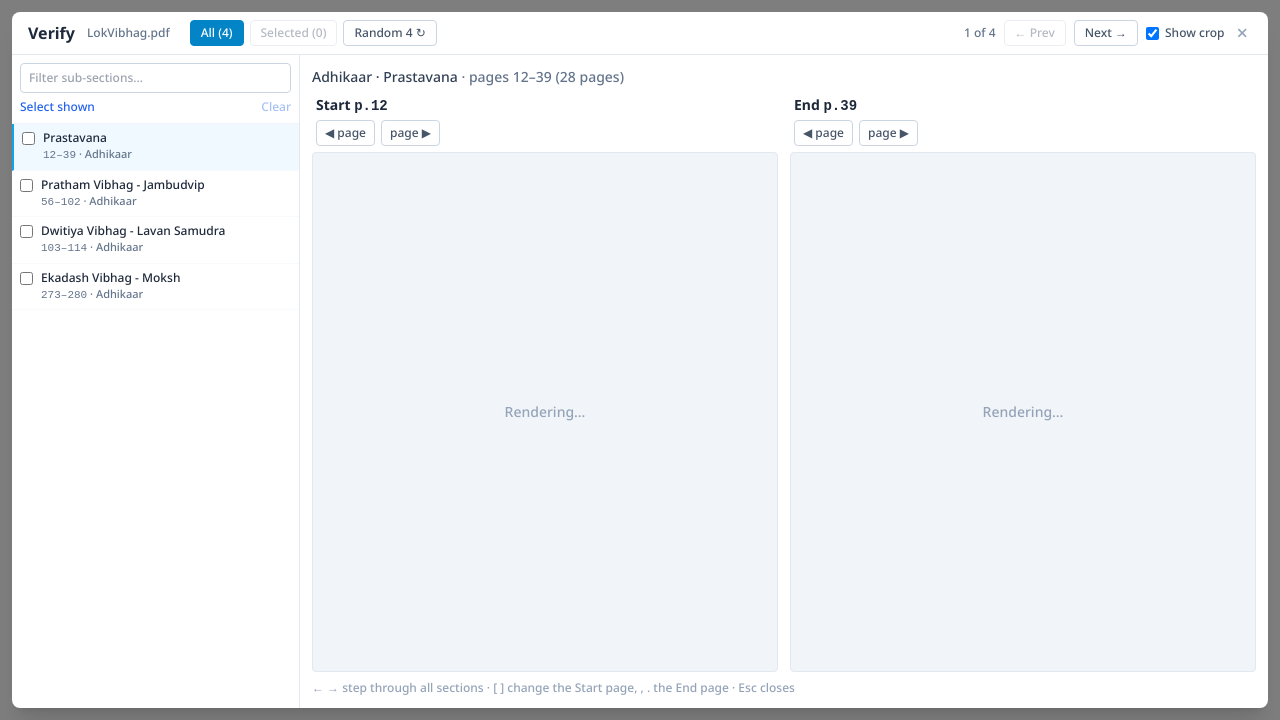
Test: "Selected" steps through only the ticked sub-sections
The width and height of the screenshot is (1280, 720).
Check: the button "Selected (0)" is disabled, box [250,20,337,46]
Click the checkbox named "Select Prastavana".
click(28, 138)  # box [22,132,35,145]
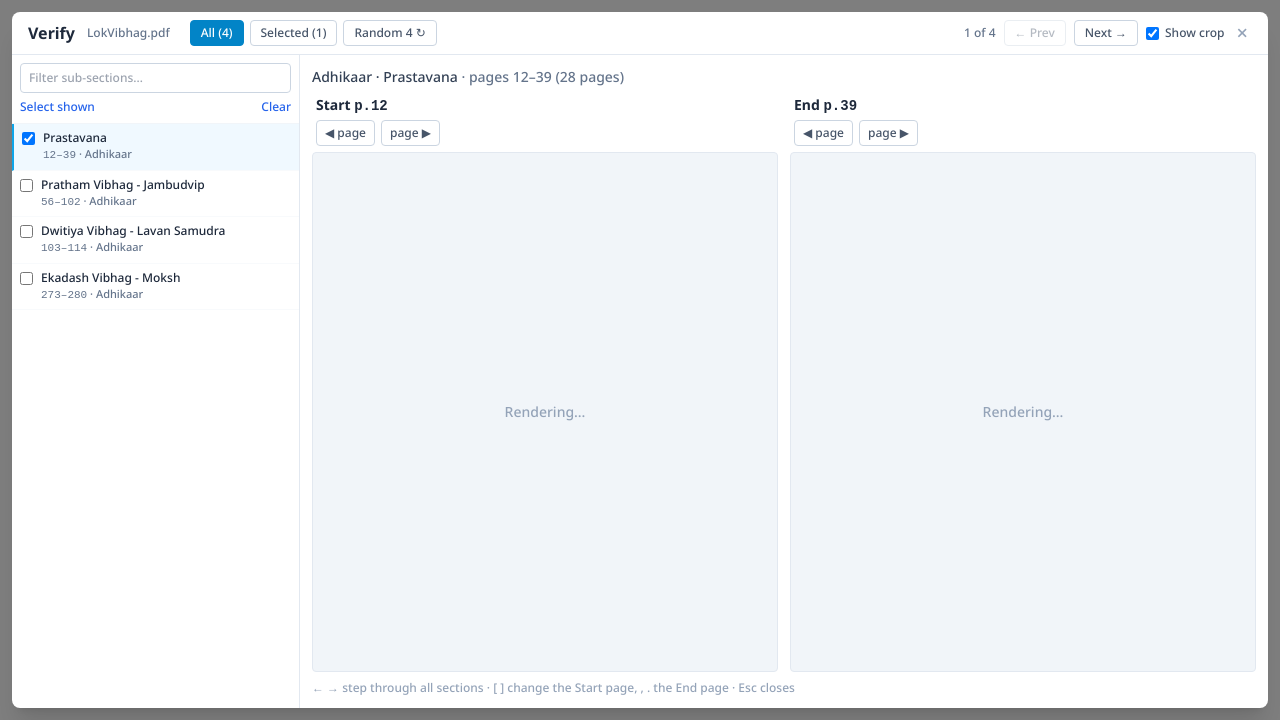
Click the checkbox named "Select Ekadash Vibhag - Moksh".
click(26, 278)  # box [20,272,33,284]
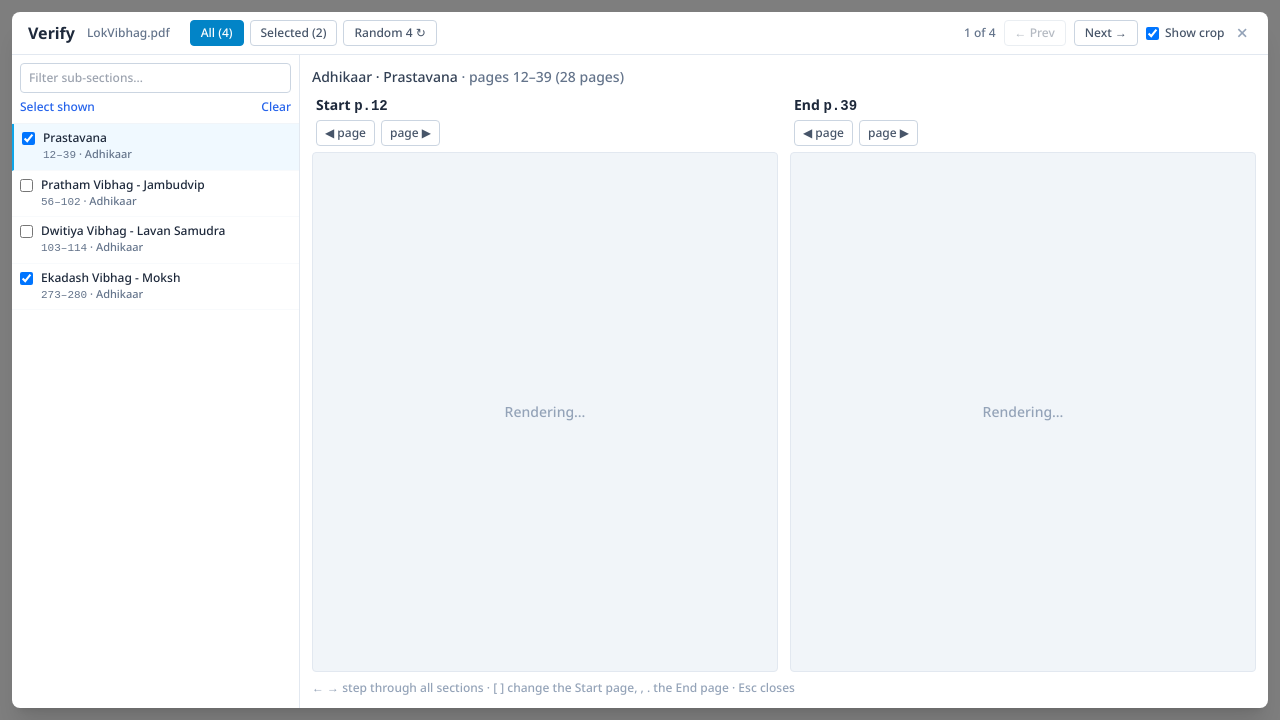
Check: the button "Selected (2)" is enabled
Click the button "Selected (2)".
click(293, 33)  # box [250,20,337,46]
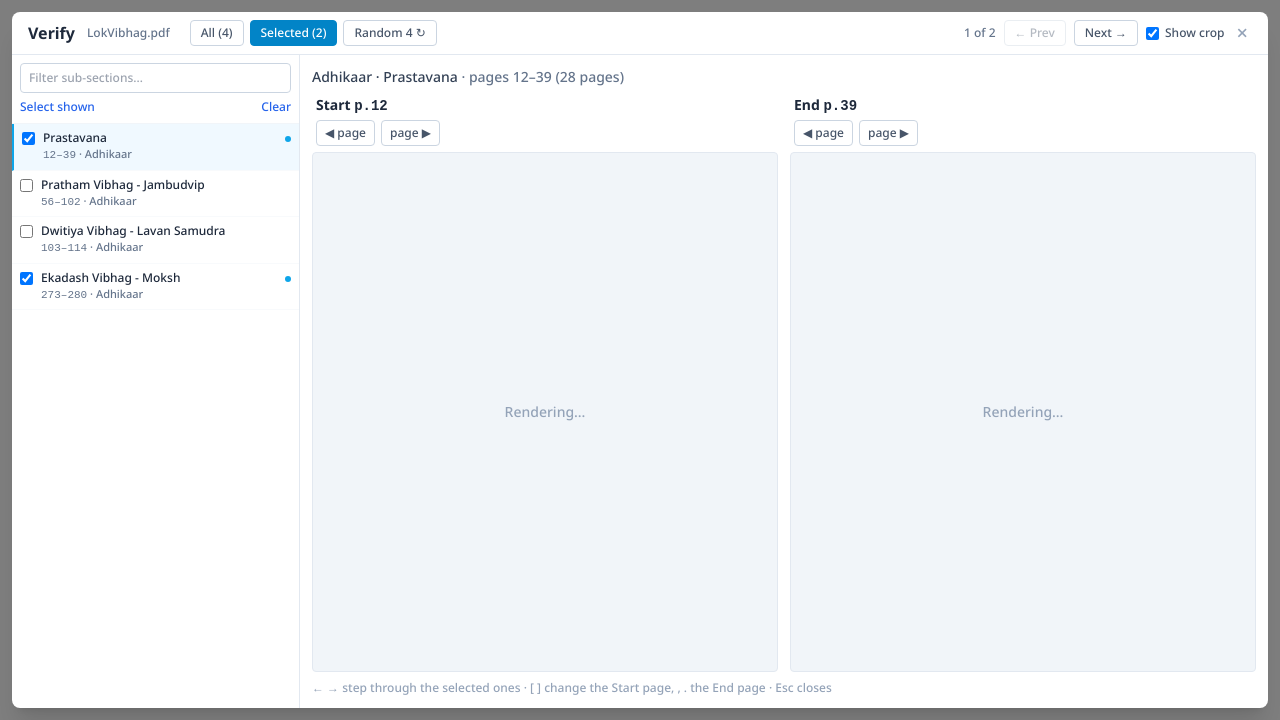
Check: the text with test id "position" reads "1 of 2", box [964,24,996,41]
Press ArrowRight
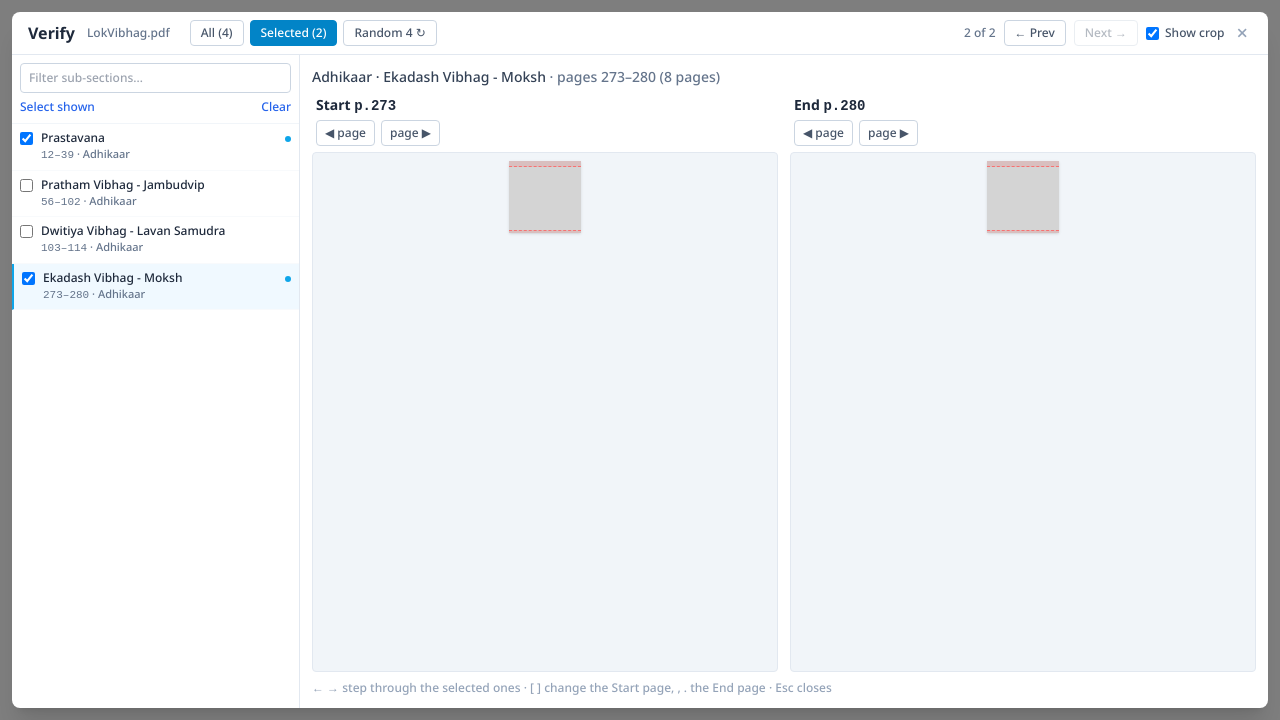
Check: the text with test id "section-label" reads "Adhikaar · Ekadash Vibhag - Moksh", box [312,67,546,86]
Check: the text with test id "position" reads "2 of 2", box [964,24,996,41]
Check: the button "Next →" is disabled, box [1074,20,1138,46]
